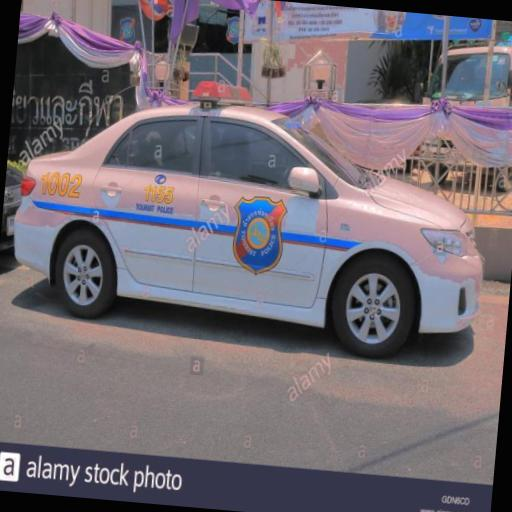Ambulance: (8, 67, 500, 354)
